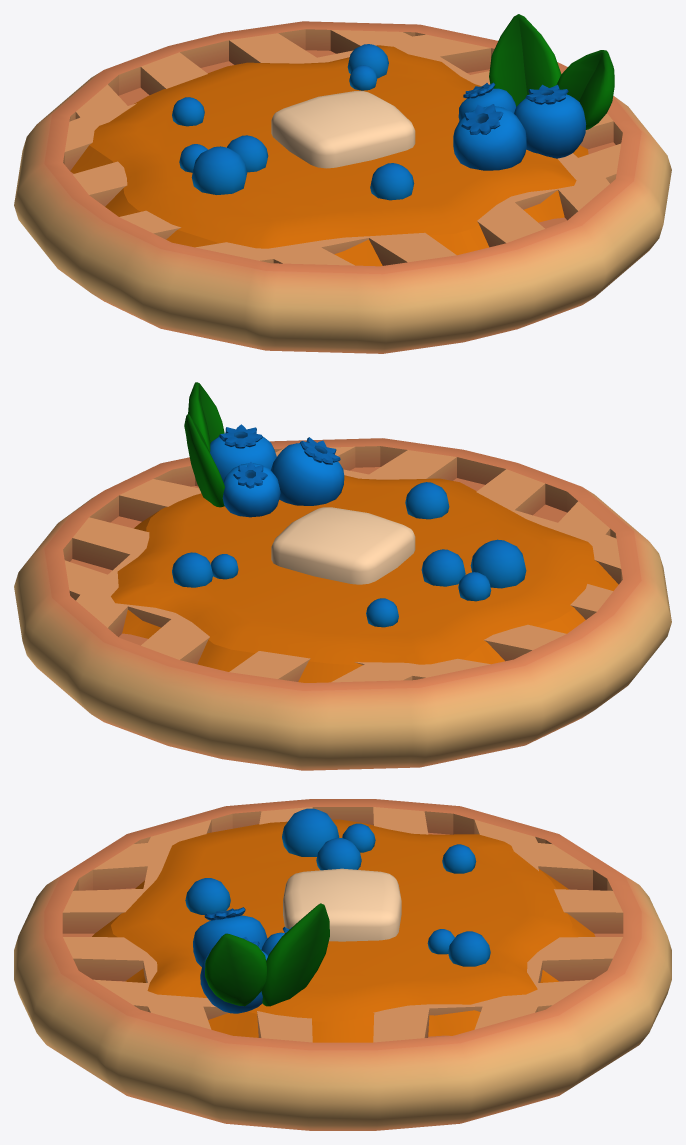
The model's file is Waffle_V1_01.fbx.
3 views of the same model, one above another, from view 1: azimuth 30°, elevation 25°; view 2: azimuth 150°, elevation 25°; view 3: azimuth 270°, elevation 25° (orthographic).
Visible parts, largest first — view 1: Waffle_V1_01; view 2: Waffle_V1_01; view 3: Waffle_V1_01.
Boxes of the visible parts, x1,y1,x2,y2 form: Waffle_V1_01: [14, 14, 671, 353]; Waffle_V1_01: [14, 382, 671, 770]; Waffle_V1_01: [14, 799, 671, 1130].
Bounding box in the file's own units: 62.86 × 19.38 × 63.11.
